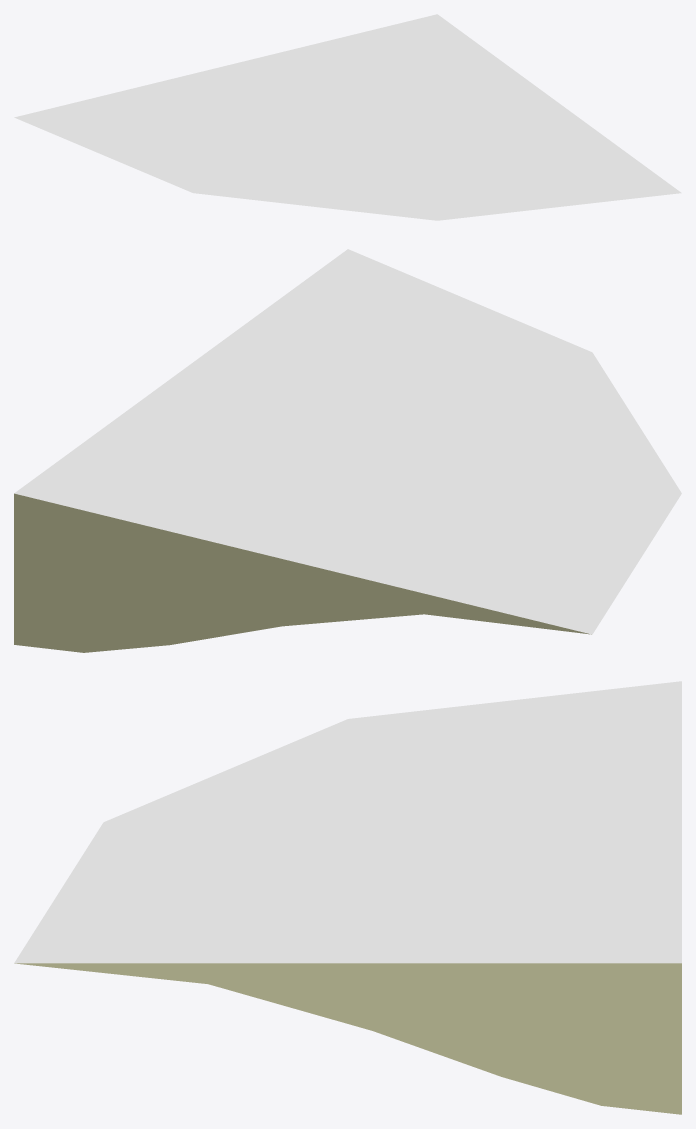
The model's file is Ceiling_Curve_Outer_4x4.glb.
3 views of the same model, one above another, from view 1: azimuth 30°, elevation 25°; view 2: azimuth 150°, elevation 25°; view 3: azimuth 270°, elevation 25° (orthographic). The views are drawn at different scales.
Parts seen in each view (by area): view 1: Ceiling_Curve_Outer_4x4; view 2: Ceiling_Curve_Outer_4x4; view 3: Ceiling_Curve_Outer_4x4.
Part boxes in pixels (box(x1,y1,x2,y2)): Ceiling_Curve_Outer_4x4: box(14, 14, 681, 220); Ceiling_Curve_Outer_4x4: box(14, 249, 681, 652); Ceiling_Curve_Outer_4x4: box(14, 681, 681, 1114).
Size of the model in its own units: 400 by 100 by 400.
